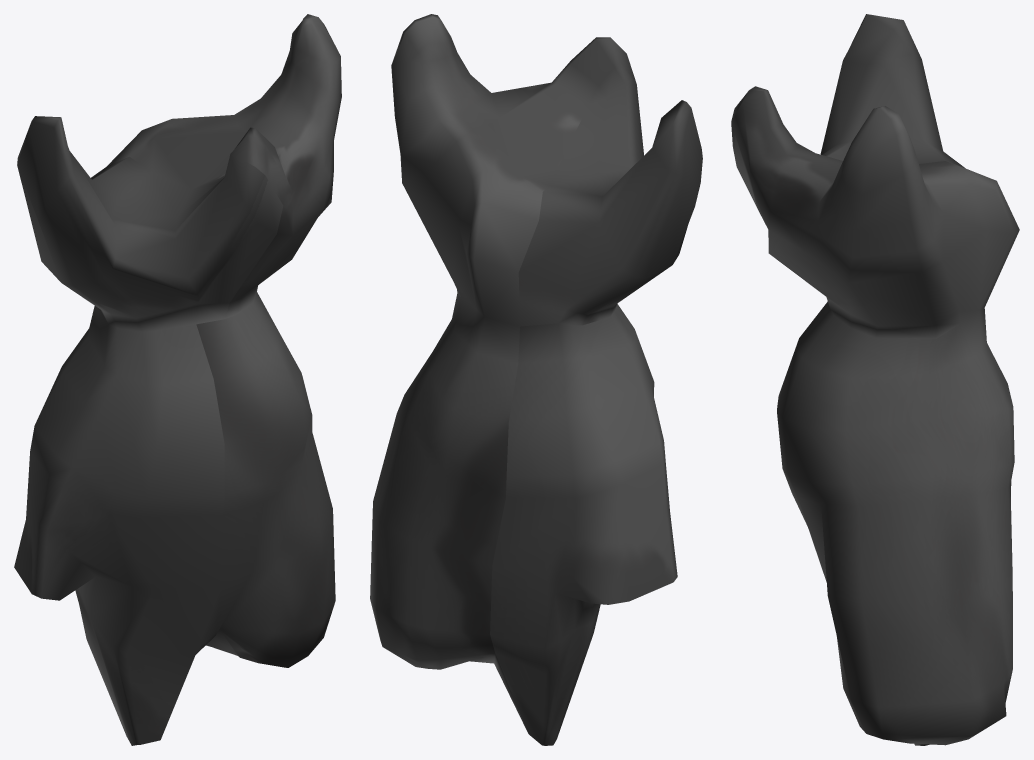
The model's file is Stalagmite.fbx.
3 views of the same model, side by side, from view 1: azimuth 30°, elevation 25°; view 2: azimuth 150°, elevation 25°; view 3: azimuth 270°, elevation 25° (orthographic). The views are drawn at different scales.
Visible parts, largest first — view 1: polySurface1; view 2: polySurface1; view 3: polySurface1.
Boxes of the visible parts, x1,y1,x2,y2 form: polySurface1: (14,14,341,745); polySurface1: (370,14,702,745); polySurface1: (731,14,1019,745).
Size of the model in its own units: 12.85 by 28.11 by 10.36.
